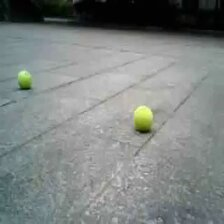tennis: (133, 105, 153, 131), (18, 70, 31, 88)
